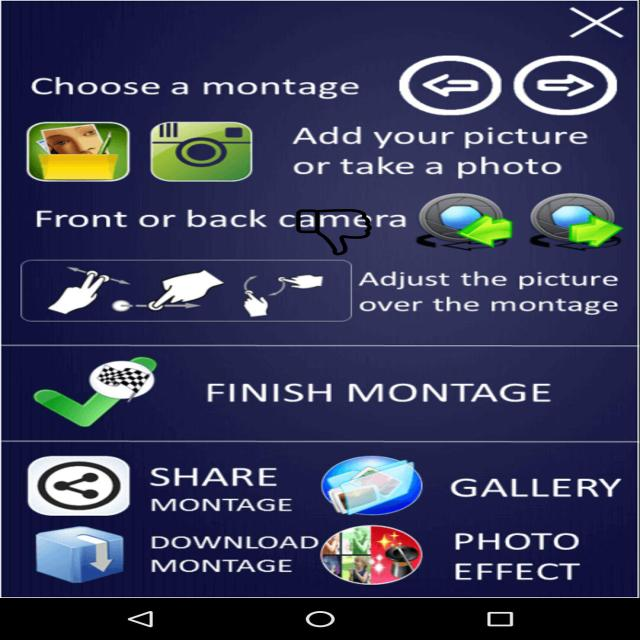obstruction: (295, 209, 373, 255)
